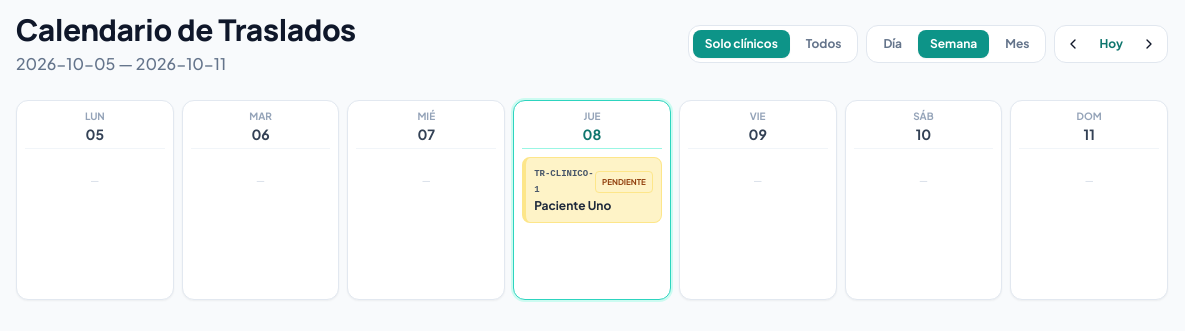
filtro del calendario del gestor de camas › el filtro también rige en la vista diaria
What coordinates should you click on to do the following:
click the button "Día"
I would click on:
 (893, 44)
Its box is [871, 30, 914, 58].
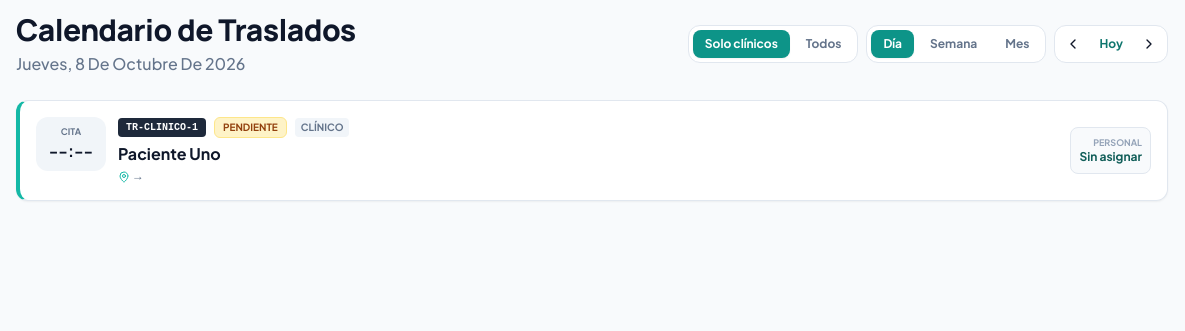
Expected: the text "TR-CLINICO-1" is shown, [118, 118, 206, 137]
Expected: the text "TR-OPERATIVO-1" is not shown
What coordinates should you click on to do the following:
click the button "Todos"
I would click on:
 (824, 44)
Its box is [794, 30, 853, 58].
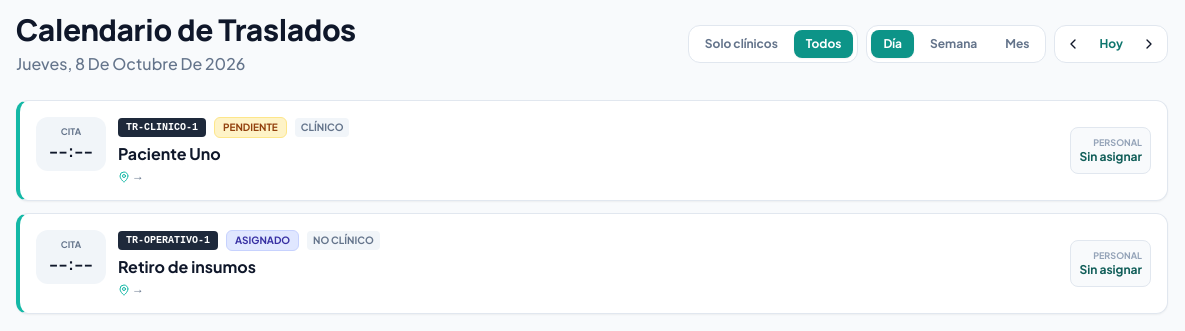
Result: the text "TR-OPERATIVO-1" is shown at [118, 231, 218, 250]
